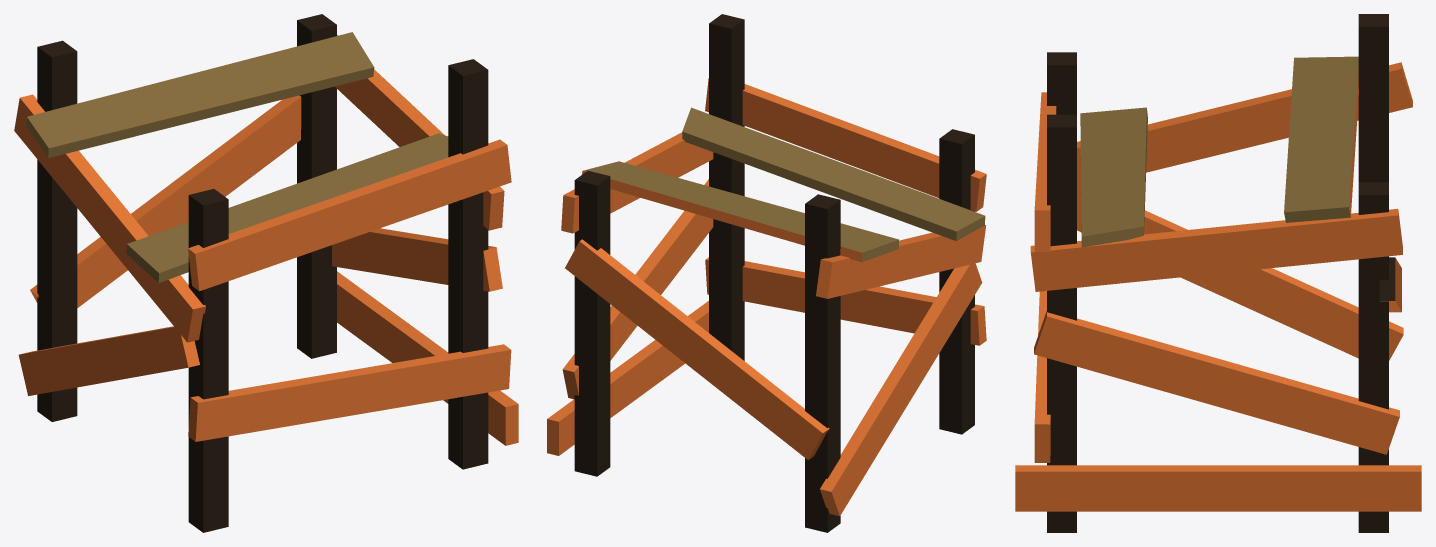
Rendered from Scaffolding.fbx.
3 renders of one model, left to right at view 1: azimuth 30°, elevation 25°; view 2: azimuth 150°, elevation 25°; view 3: azimuth 270°, elevation 25°, orthographic. The views are drawn at different scales.
Visible parts, largest first — view 1: Scaffolding; view 2: Scaffolding; view 3: Scaffolding.
Part boxes in pixels (left/top/right/bottom): Scaffolding: left=14, top=14, right=518, bottom=532; Scaffolding: left=547, top=14, right=986, bottom=532; Scaffolding: left=1015, top=14, right=1421, bottom=532.
Size of the model in its own units: 644 by 718 by 651.
